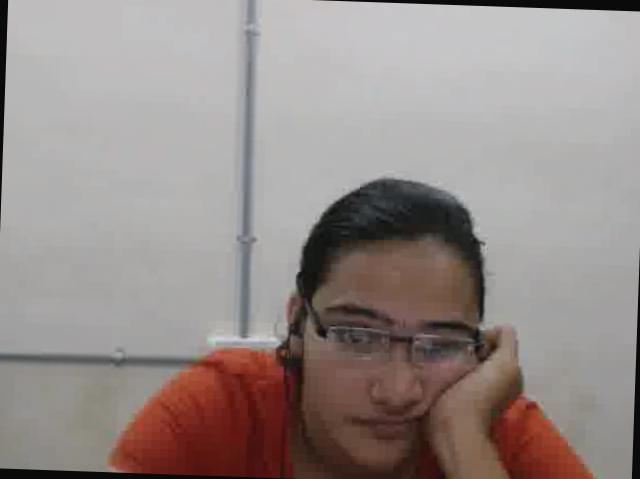bosan: (300, 244, 486, 474)
